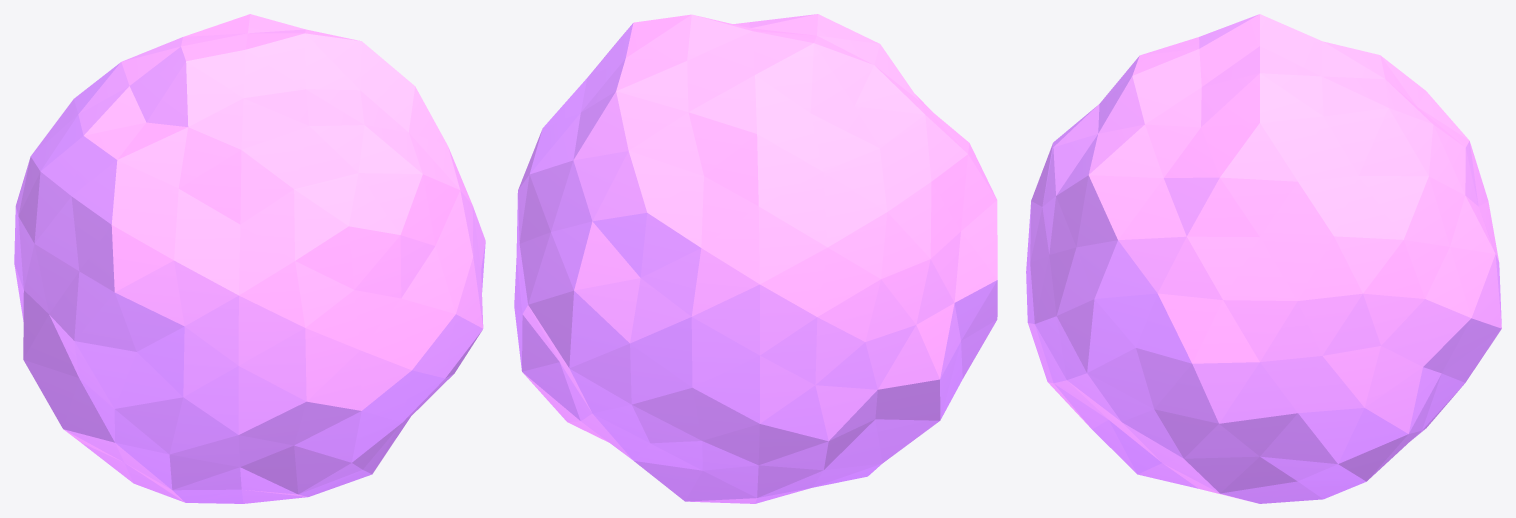
The model's file is atelier.glb.
3 renders of one model, left to right at view 1: azimuth 30°, elevation 25°; view 2: azimuth 150°, elevation 25°; view 3: azimuth 270°, elevation 25°, orthographic. The views are drawn at different scales.
Parts seen in each view (by area): view 1: outer_atelier; view 2: outer_atelier; view 3: outer_atelier.
Part boxes in pixels (box(x1,y1,x2,y2)): outer_atelier: box(14, 14, 485, 503); outer_atelier: box(514, 14, 997, 503); outer_atelier: box(1026, 14, 1501, 503).
Bounding box in the file's own units: 5.22 × 5.45 × 5.22.
